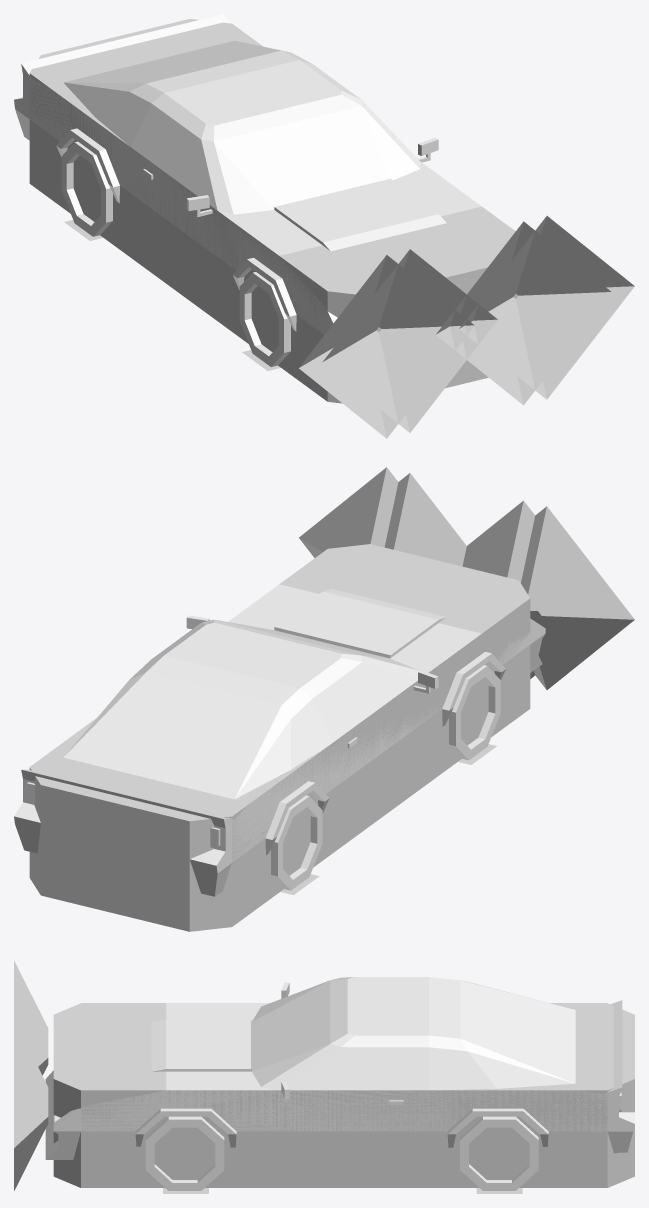
The model's file is IROCK.fbx.
The picture shows the model from 3 angles, top to bottom: view 1: azimuth 30°, elevation 25°; view 2: azimuth 150°, elevation 25°; view 3: azimuth 270°, elevation 25°; orthographic projection. The views are drawn at different scales.
Visible parts, largest first — view 1: irock1, irock_cldr; view 2: irock1, irock_cldr; view 3: irock1, irock_cldr, TireSmokeMesh.
Boxes of the visible parts, left/top/right/bottom form: irock1: left=14, top=14, right=634, bottom=438; irock_cldr: left=29, top=19, right=518, bottom=403; irock1: left=14, top=467, right=634, bottom=896; irock_cldr: left=29, top=544, right=530, bottom=931; irock1: left=14, top=960, right=634, bottom=1190; irock_cldr: left=53, top=1003, right=634, bottom=1187; TireSmokeMesh: left=163, top=1188, right=522, bottom=1193.
Bounding box in the file's own units: 5 × 2.62 × 9.05.
